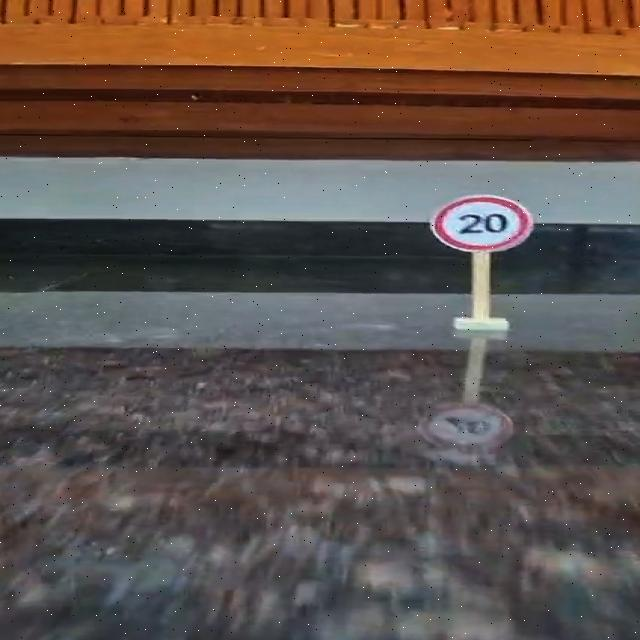Speed20: (423, 190, 543, 256)
